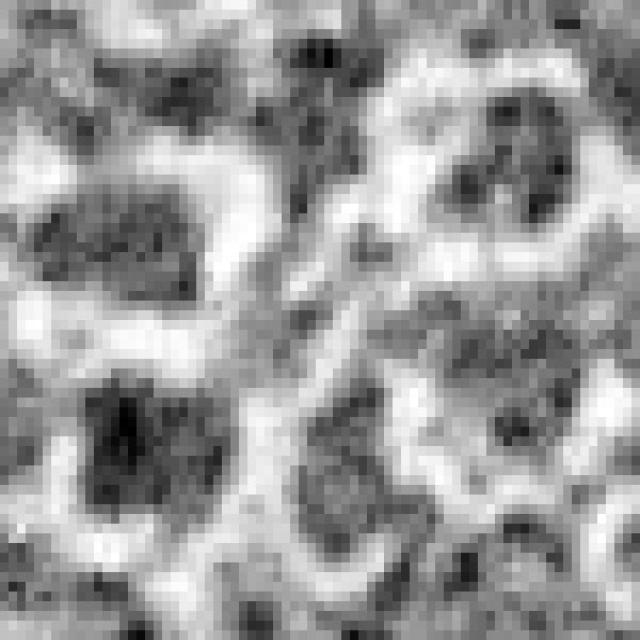inner: (209, 219, 436, 391)
lobe: (408, 277, 593, 465), (245, 24, 394, 223), (69, 364, 245, 527), (290, 376, 424, 558), (431, 80, 580, 235), (55, 42, 251, 156), (16, 187, 206, 303)
outer: (3, 0, 640, 640)
